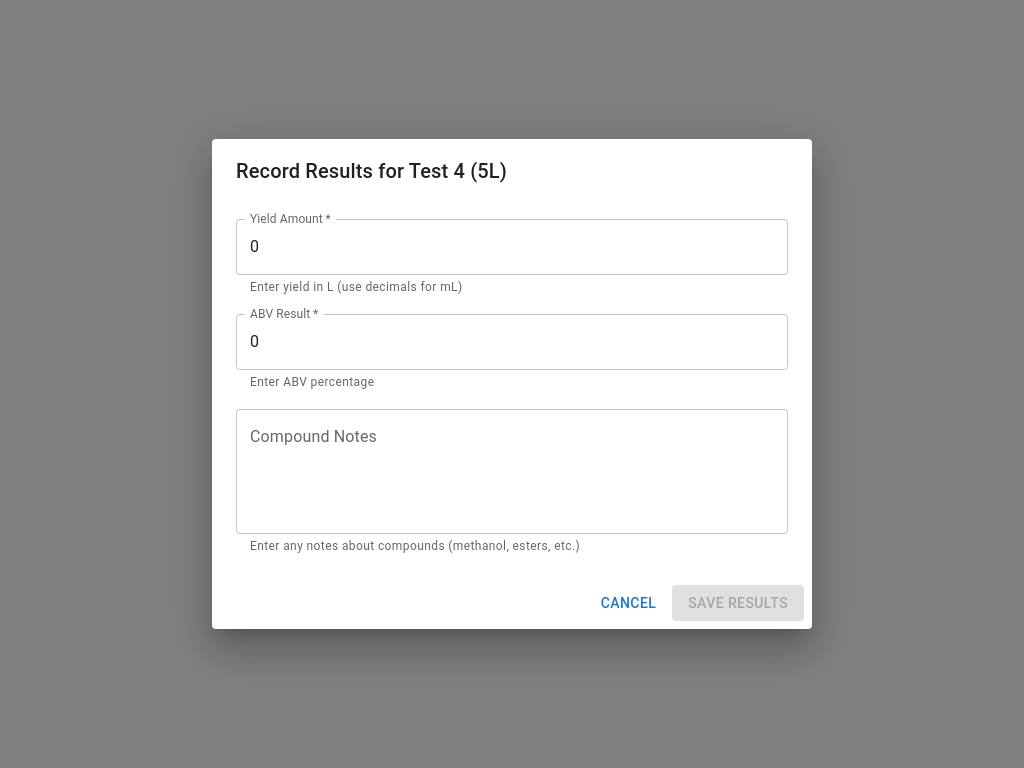
UpscaleResultDialog › enables submit button when required fields are filled
This screenshot has width=1024, height=768.
Type "0.48" into the number field labelled "Yield Amount *".
click(512, 247); type("0.48")  # box [236,219,788,275]
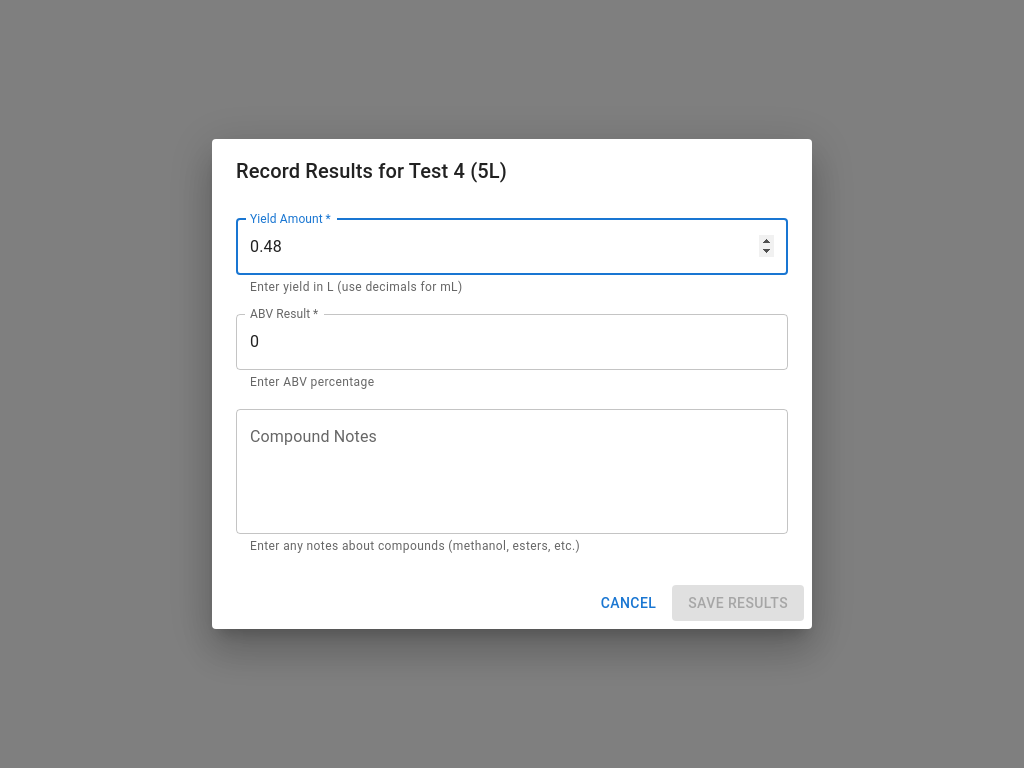
Type "8.0" into the number field labelled "ABV Result *".
click(512, 342); type("8.0")  # box [236,314,788,370]
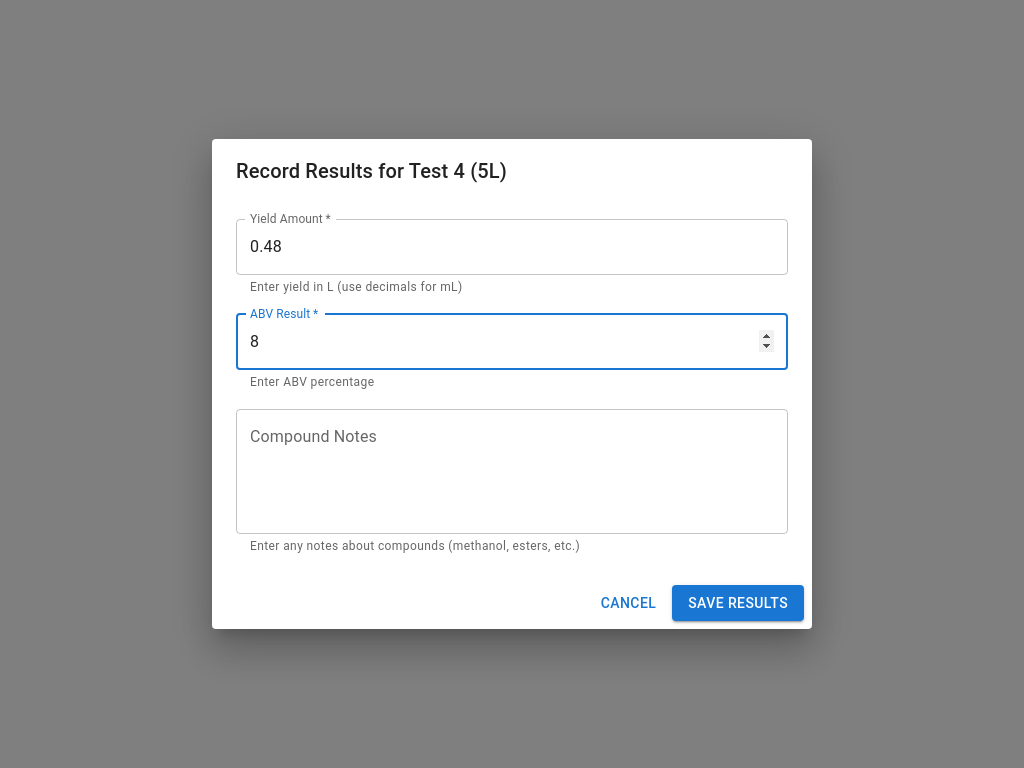
Expected: the button "Save Results" is enabled, [672,585,804,621]
